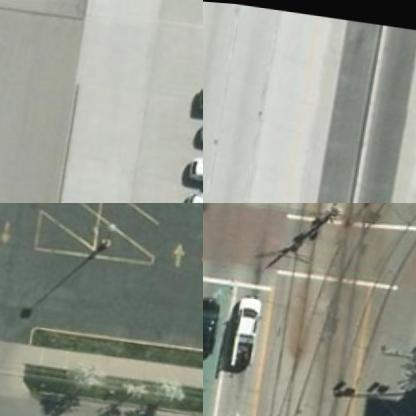car: (228, 296, 265, 372), (203, 298, 224, 363), (190, 151, 202, 186)
